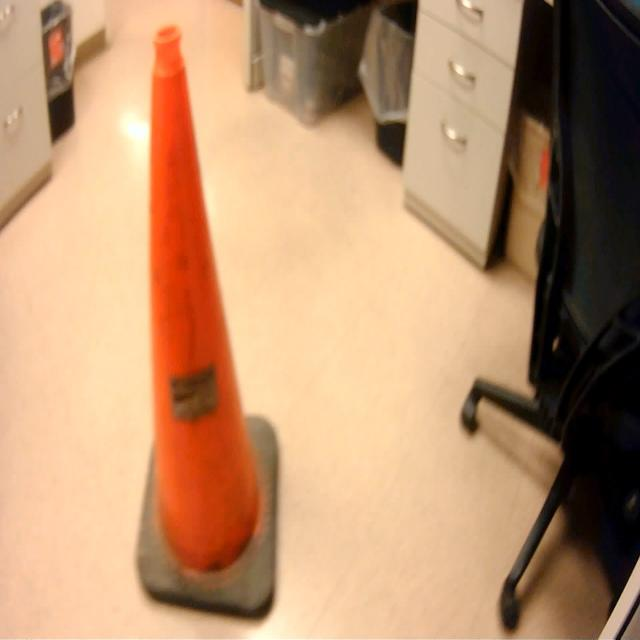traffic cone: (133, 17, 288, 631)
